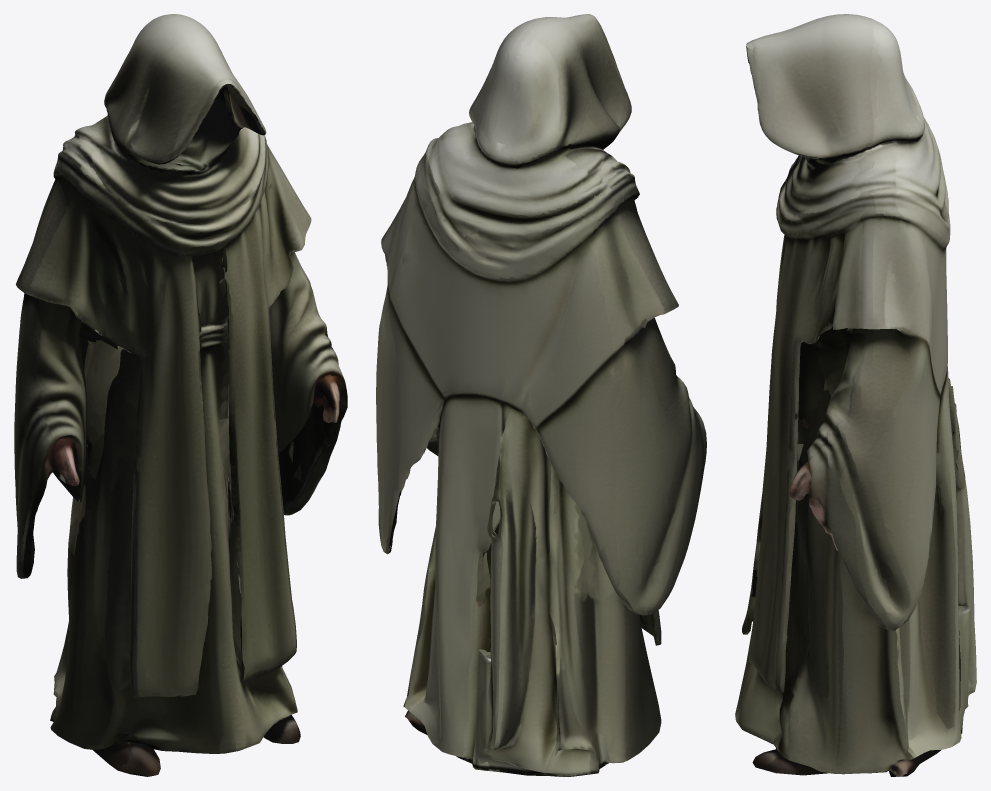
The model's file is hooded_wizard.glb.
The picture shows the model from 3 angles, left to right: view 1: azimuth 30°, elevation 25°; view 2: azimuth 150°, elevation 25°; view 3: azimuth 270°, elevation 25°; orthographic projection.
Parts seen in each view (by area): view 1: Character; view 2: Character; view 3: Character.
Boxes of the visible parts, x1,y1,x2,y2 form: Character: (14, 14, 347, 776); Character: (376, 14, 706, 776); Character: (735, 14, 976, 776).
Bounding box in the file's own units: 0.8107 × 1.75 × 0.5379.
1 material, 1 textured.
